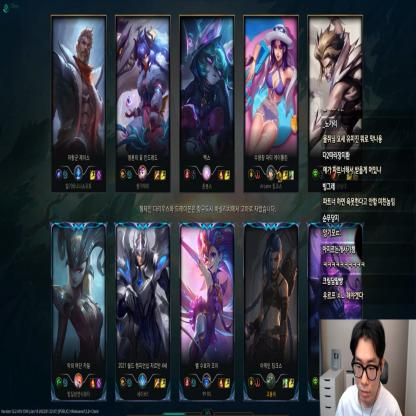streamer: (334, 319, 402, 416)
